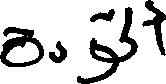X: (0, 22, 42, 71), (90, 4, 116, 83), (122, 2, 135, 66), (154, 2, 165, 60), (52, 36, 65, 67)
